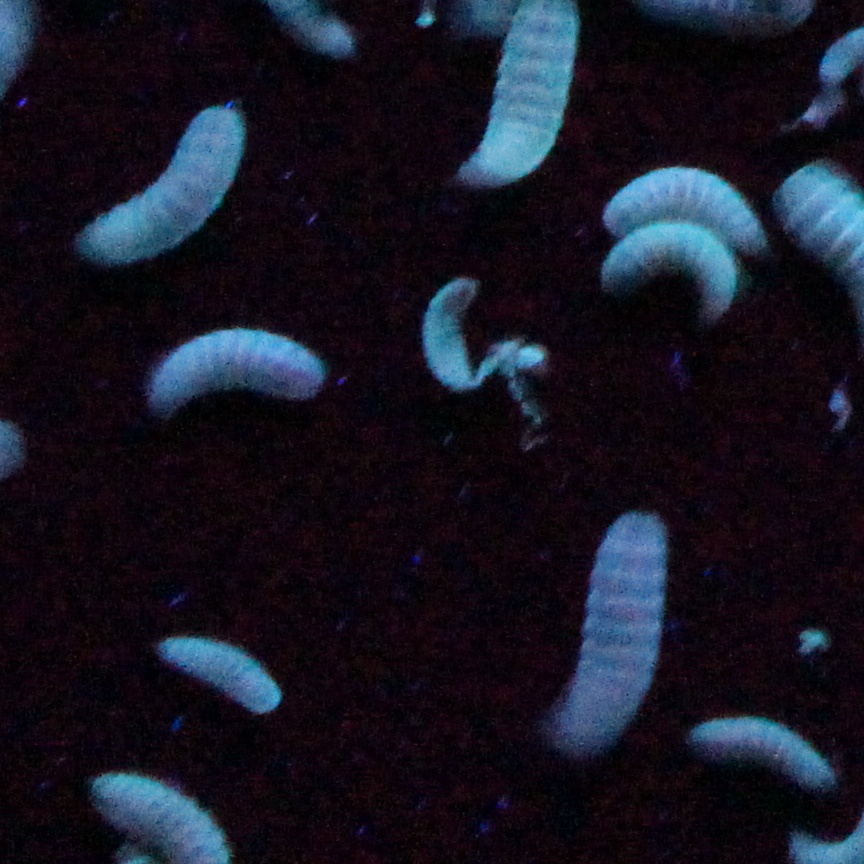larve: (552, 512, 665, 761), (76, 101, 241, 263), (145, 314, 330, 419), (601, 219, 741, 321), (601, 165, 761, 252), (692, 705, 834, 788), (158, 625, 281, 714), (418, 270, 478, 390)
